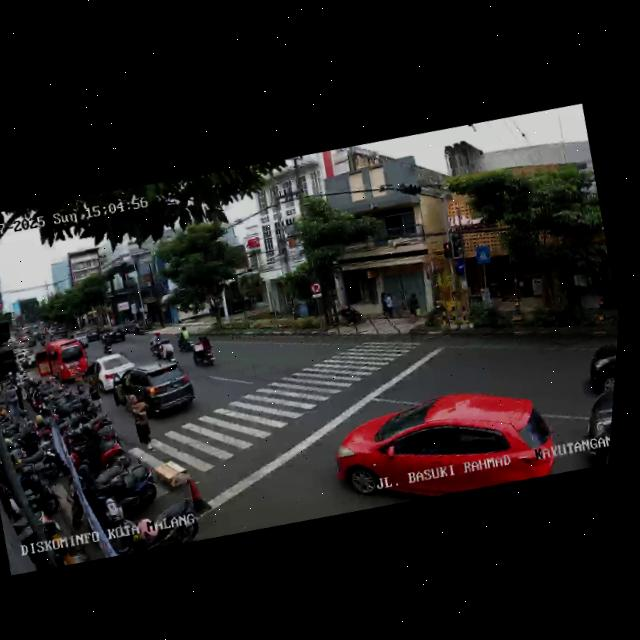car: (322, 365, 566, 525), (104, 351, 203, 434), (569, 369, 615, 467), (29, 331, 93, 390), (83, 346, 142, 398), (573, 333, 618, 400), (98, 323, 129, 349)
motorcycle: (188, 329, 221, 369), (154, 336, 179, 368), (145, 331, 167, 363), (172, 323, 195, 353), (97, 330, 115, 356)
person: (122, 388, 160, 454)
